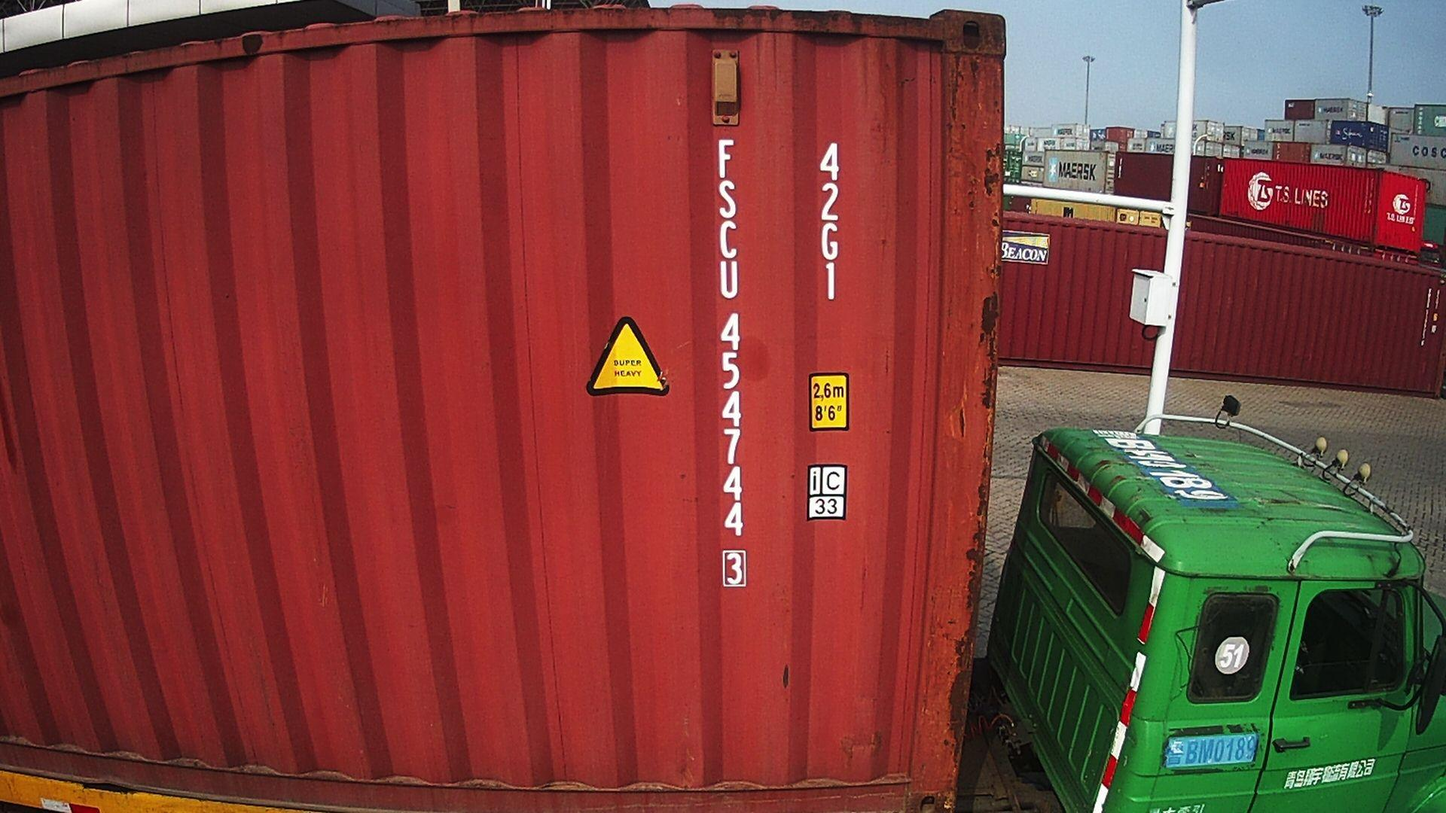container-numbers: (712, 131, 752, 594), (813, 139, 847, 308)
